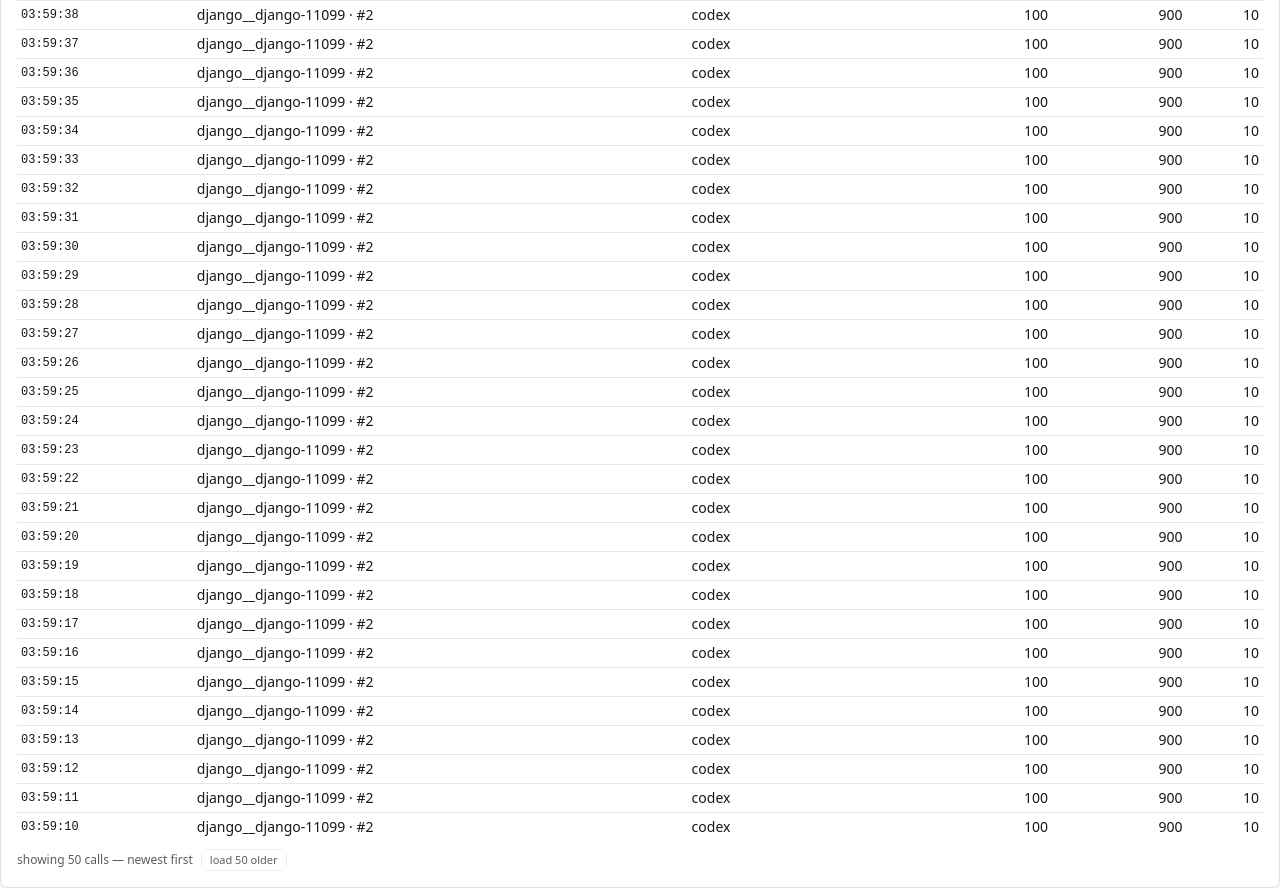
Test: LlmLiveView — older pages › offers "load older" only when the first page is full, appends the page, and stops on a short page
(page scrolled)
Expected: the text "showing 50 calls — newest first" is shown, [17,852,193,868]
Click the button with aria-label "load older calls" at (244, 860), box [201,849,287,871]
(page scrolled)
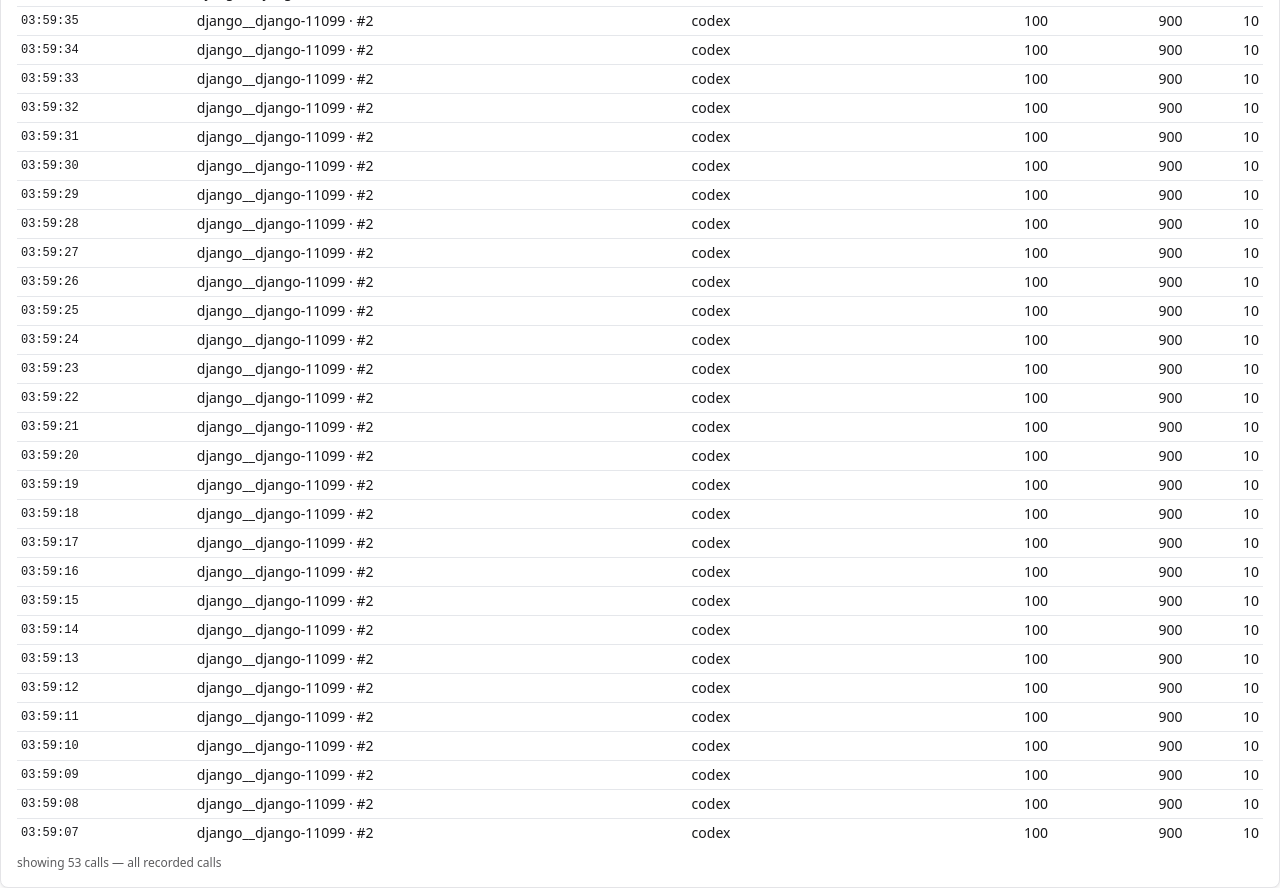
Now the text "showing 53 calls — all recorded calls" is shown, box [17,855,222,871]
